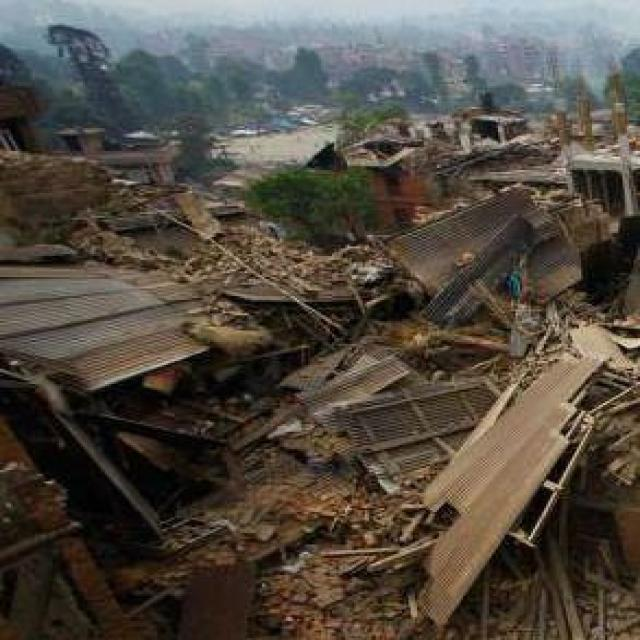collapsed_building: (0, 226, 638, 638)
